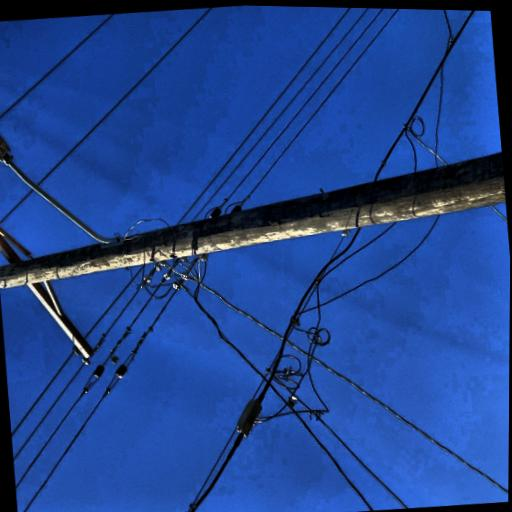insulator: (186, 24, 202, 40), (132, 77, 147, 94), (36, 174, 48, 189)
pole: (84, 72, 283, 512)
street light: (123, 66, 263, 244)
